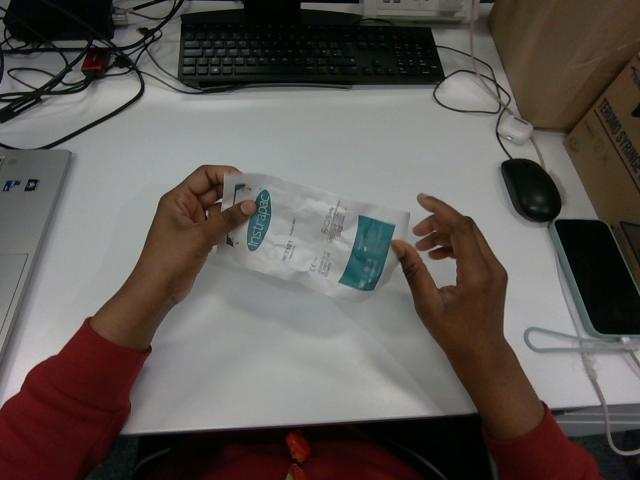gallipot: (217, 174, 408, 300)
